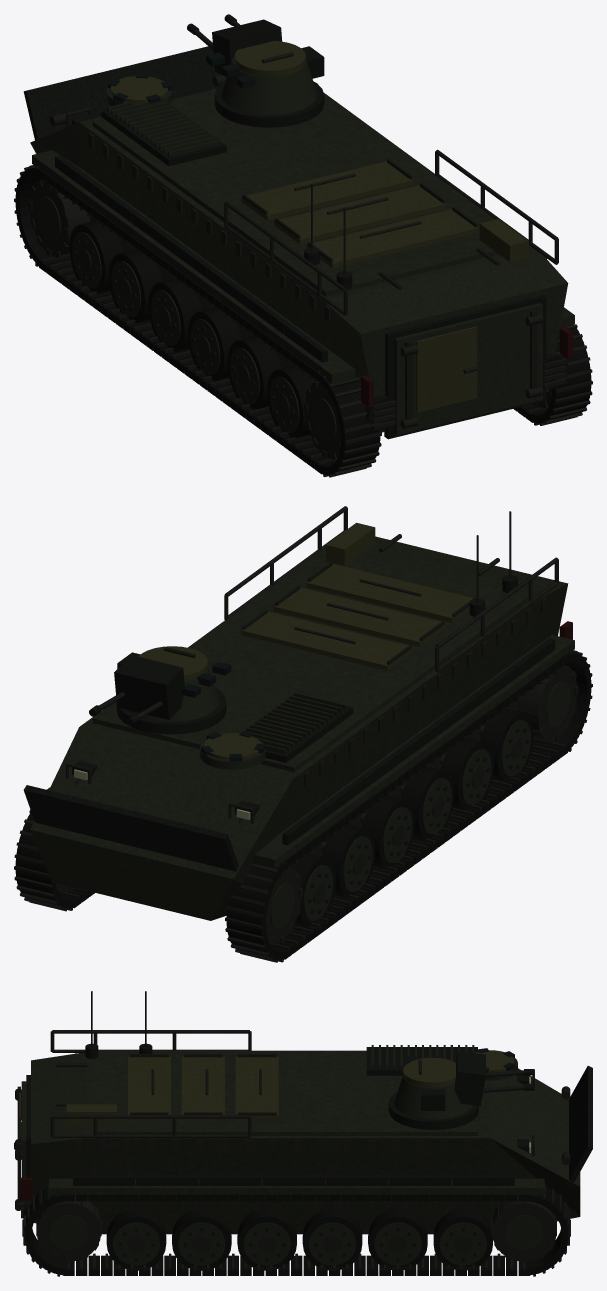
Rendered from kaav.glb.
3 views of the same model, one above another, from view 1: azimuth 30°, elevation 25°; view 2: azimuth 150°, elevation 25°; view 3: azimuth 270°, elevation 25° (orthographic). The views are drawn at different scales.
Visible parts, largest first — view 1: olive, light, steel, rubber, dark, glass, red; view 2: olive, rubber, dark, steel, light, glass; view 3: olive, rubber, steel, dark, light.
Part boxes in pixels (<box>): olive: <box>30,57,574,443</box>; light: <box>110,41,528,412</box>; steel: <box>14,20,592,477</box>; rubber: <box>15,167,591,475</box>; dark: <box>23,14,568,439</box>; glass: <box>107,52,255,103</box>; red: <box>361,327,572,407</box>; olive: <box>30,536,574,928</box>; rubber: <box>15,652,591,960</box>; dark: <box>23,575,555,913</box>; steel: <box>14,506,592,962</box>; light: <box>138,522,473,759</box>; glass: <box>182,662,265,761</box>; olive: <box>21,1045,580,1265</box>; rubber: <box>24,1187,568,1275</box>; steel: <box>14,991,570,1276</box>; dark: <box>23,1043,592,1261</box>; light: <box>19,1050,514,1136</box>.
Bounding box in the file's own units: 3.28 × 3.11 × 8.06.
Materials: 8 (8 with a texture image).
